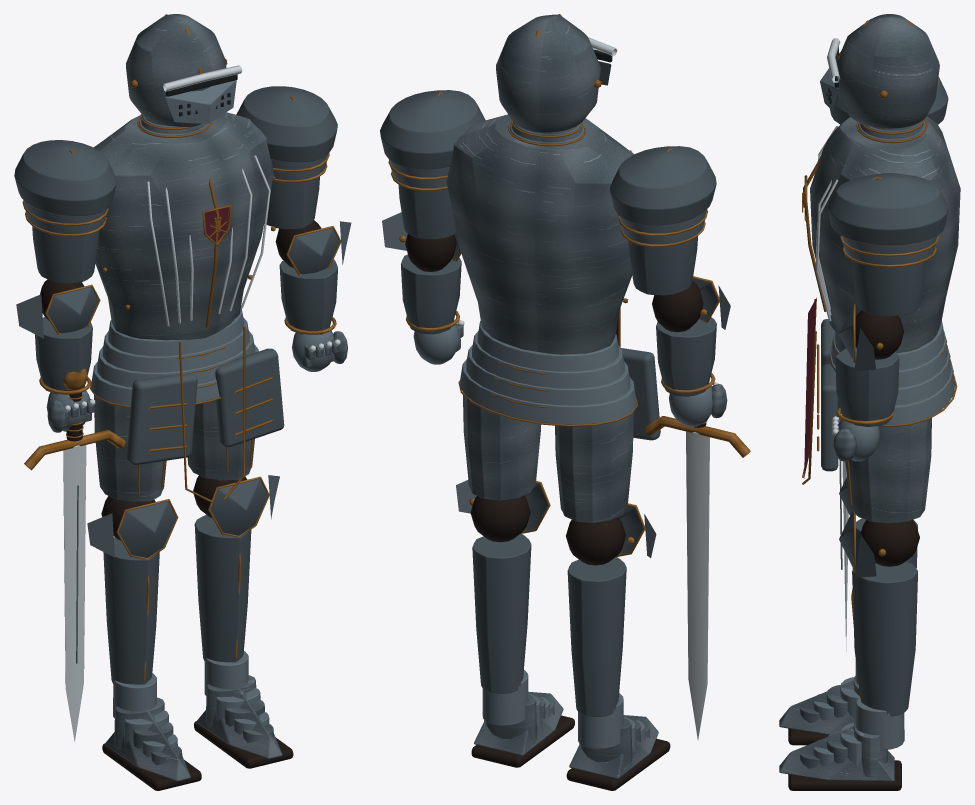
The model's file is enchanted-armour-v002.glb.
The picture shows the model from 3 angles, left to right: view 1: azimuth 30°, elevation 25°; view 2: azimuth 150°, elevation 25°; view 3: azimuth 270°, elevation 25°; orthographic projection. The views are drawn at different scales.
Parts seen in each view (by area): view 1: spine-forged-geometry, hips-forged-geometry, upperArm.R-forged-geometry, head-forged-geometry, shin.R-forged-geometry, shin.L-forged-geometry, hand.R-forged-geometry, upperArm.L-forged-geometry, foot.L-forged-geometry, foot.R-forged-geometry, forearm.R-forged-geometry, forearm.L-forged-geometry (+3 smaller); view 2: spine-forged-geometry, hips-forged-geometry, upperArm.R-forged-geometry, head-forged-geometry, shin.L-forged-geometry, shin.R-forged-geometry, upperArm.L-forged-geometry, hand.R-forged-geometry, thigh.R-forged-geometry, forearm.R-forged-geometry, thigh.L-forged-geometry, forearm.L-forged-geometry (+3 smaller); view 3: spine-forged-geometry, upperArm.L-forged-geometry, shin.L-forged-geometry, head-forged-geometry, hips-forged-geometry, foot.L-forged-geometry, thigh.L-forged-geometry, forearm.L-forged-geometry, foot.R-forged-geometry, hand.L-forged-geometry, upperArm.R-forged-geometry, hand.R-forged-geometry (+1 smaller).
Boxes of the visible parts, x1,y1,x2,y2 form: spine-forged-geometry: [93, 112, 275, 340]; hips-forged-geometry: [89, 308, 284, 502]; upperArm.R-forged-geometry: [14, 140, 116, 283]; head-forged-geometry: [126, 14, 242, 137]; shin.R-forged-geometry: [87, 496, 178, 684]; shin.L-forged-geometry: [193, 475, 279, 662]; hand.R-forged-geometry: [24, 368, 125, 741]; upperArm.L-forged-geometry: [236, 86, 337, 229]; foot.L-forged-geometry: [194, 651, 293, 768]; foot.R-forged-geometry: [102, 673, 201, 790]; forearm.R-forged-geometry: [16, 279, 100, 394]; forearm.L-forged-geometry: [275, 220, 351, 334]; spine-forged-geometry: [446, 114, 634, 354]; hips-forged-geometry: [458, 307, 660, 440]; upperArm.R-forged-geometry: [610, 146, 716, 295]; head-forged-geometry: [496, 14, 617, 146]; shin.L-forged-geometry: [456, 480, 550, 693]; shin.R-forged-geometry: [566, 503, 656, 716]; upperArm.L-forged-geometry: [380, 90, 485, 239]; hand.R-forged-geometry: [645, 373, 750, 740]; thigh.R-forged-geometry: [555, 412, 633, 523]; forearm.R-forged-geometry: [652, 276, 730, 396]; thigh.L-forged-geometry: [463, 392, 540, 500]; forearm.L-forged-geometry: [382, 212, 461, 334]; spine-forged-geometry: [802, 116, 960, 352]; upperArm.L-forged-geometry: [828, 173, 948, 316]; shin.L-forged-geometry: [839, 511, 919, 716]; head-forged-geometry: [820, 14, 939, 143]; hips-forged-geometry: [802, 297, 957, 484]; foot.L-forged-geometry: [779, 697, 904, 790]; thigh.L-forged-geometry: [845, 418, 931, 523]; forearm.L-forged-geometry: [835, 303, 903, 426]; foot.R-forged-geometry: [779, 660, 859, 745]; hand.L-forged-geometry: [832, 407, 894, 461]; upperArm.R-forged-geometry: [829, 77, 948, 124]; hand.R-forged-geometry: [839, 418, 848, 651].
Bounding box in the file's own units: 0.8324 × 1.69 × 0.3751.
Materials: 7 (2 with a texture image).
